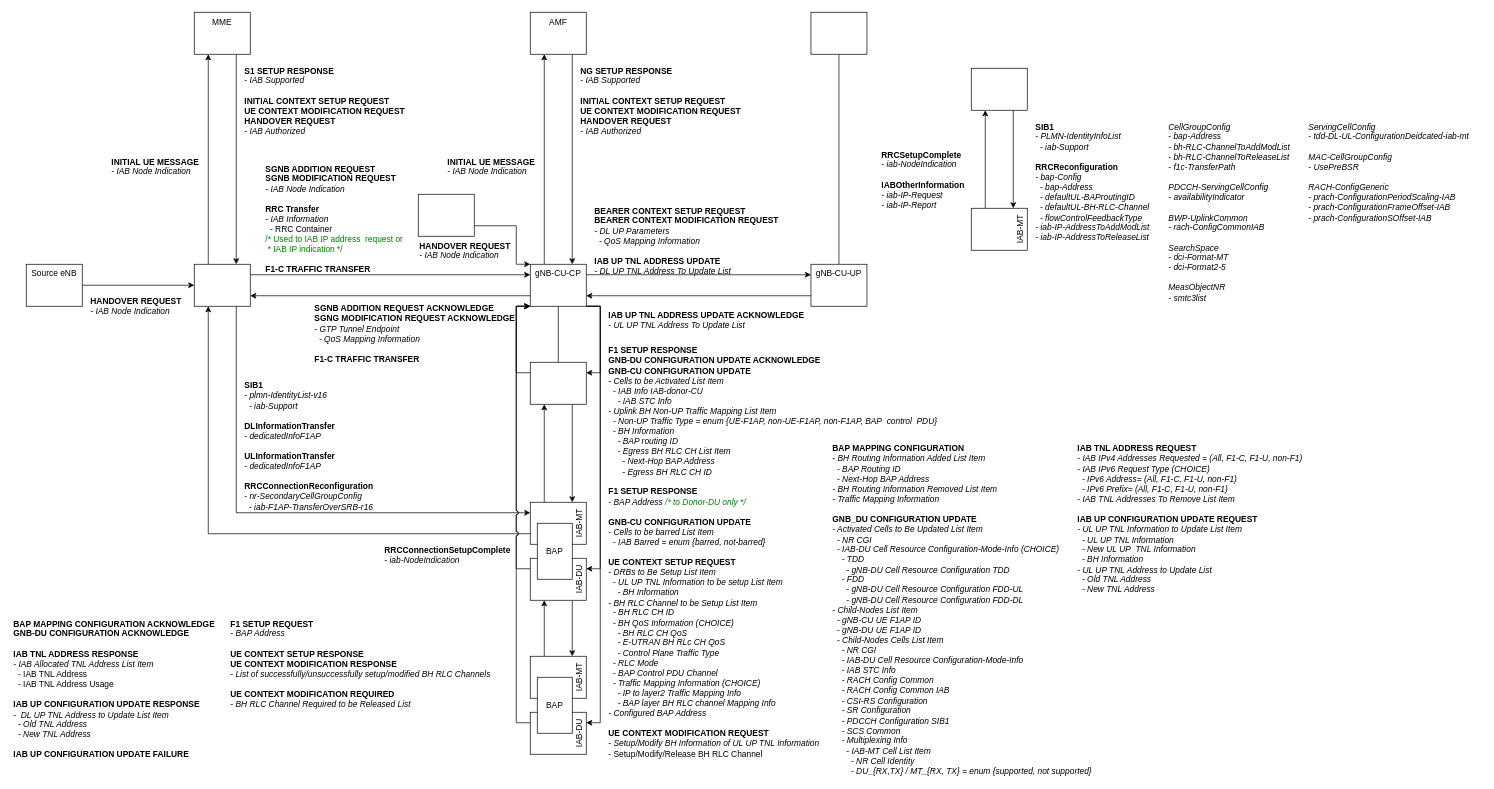
Some shapes in this 1494 by 789 pixel diagram are drawn without their labels. Here are the shapes that lost their labels. From the top down, the centre of each, then its label:
the point at 838,33: S-GW UPF
the point at 999,89: gNB
the point at 446,215: Source gNB
the point at 222,285: MeNB
the point at 558,383: gNB-DU
